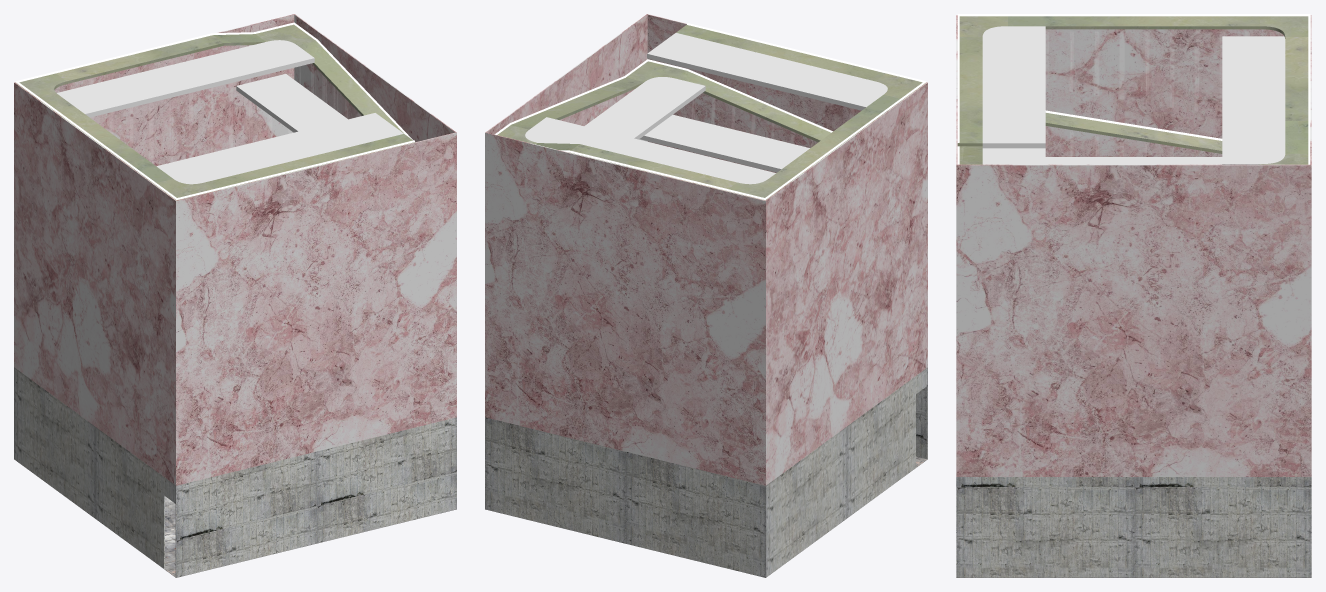
The model's file is 14-PODDIO_VERTICALE_Digital_Topographies_14-v1.glb.
The picture shows the model from 3 angles, left to right: view 1: azimuth 30°, elevation 25°; view 2: azimuth 150°, elevation 25°; view 3: azimuth 270°, elevation 25°; orthographic projection. The views are drawn at different scales.
Parts seen in each view (by area): view 1: CPHE UST 1, CEPHE BAZ, FLOORS, RAMPA, vectaryedogrufbx, 0 ZEMIIN; view 2: CPHE UST 1, CEPHE BAZ, FLOORS, RAMPA, vectaryedogrufbx; view 3: CPHE UST 1, CEPHE BAZ, FLOORS, RAMPA, vectaryedogrufbx.
Part boxes in pixels (x1,y1,x2,y2): CPHE UST 1: [14, 14, 456, 485]; CEPHE BAZ: [14, 367, 456, 577]; FLOORS: [57, 40, 403, 184]; RAMPA: [16, 24, 415, 200]; vectaryedogrufbx: [15, 22, 414, 199]; 0 ZEMIIN: [14, 459, 456, 577]; CPHE UST 1: [485, 14, 927, 485]; CEPHE BAZ: [485, 367, 927, 577]; FLOORS: [525, 33, 887, 184]; RAMPA: [497, 25, 925, 200]; vectaryedogrufbx: [495, 23, 926, 199]; CPHE UST 1: [956, 15, 1311, 476]; CEPHE BAZ: [956, 477, 1311, 577]; FLOORS: [982, 26, 1285, 164]; RAMPA: [957, 16, 1308, 164]; vectaryedogrufbx: [957, 14, 1310, 164].
Size of what is drawn, in the model's own units: 32 by 41.22 by 32.
Materials: 8 (4 with a texture image).
